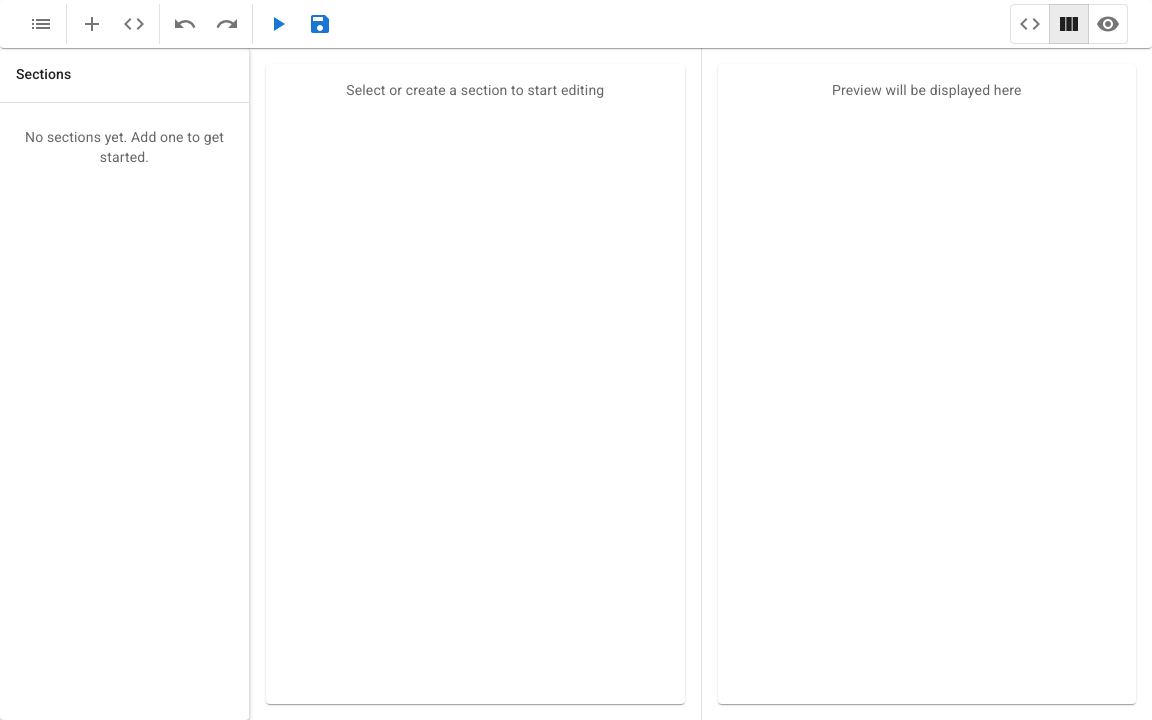
Test: DynamicTextEditor › should add a dynamic section when clicking add code button
Click the button named "Add Code Section" at x=134, y=24, box 117,7 -> 151,41
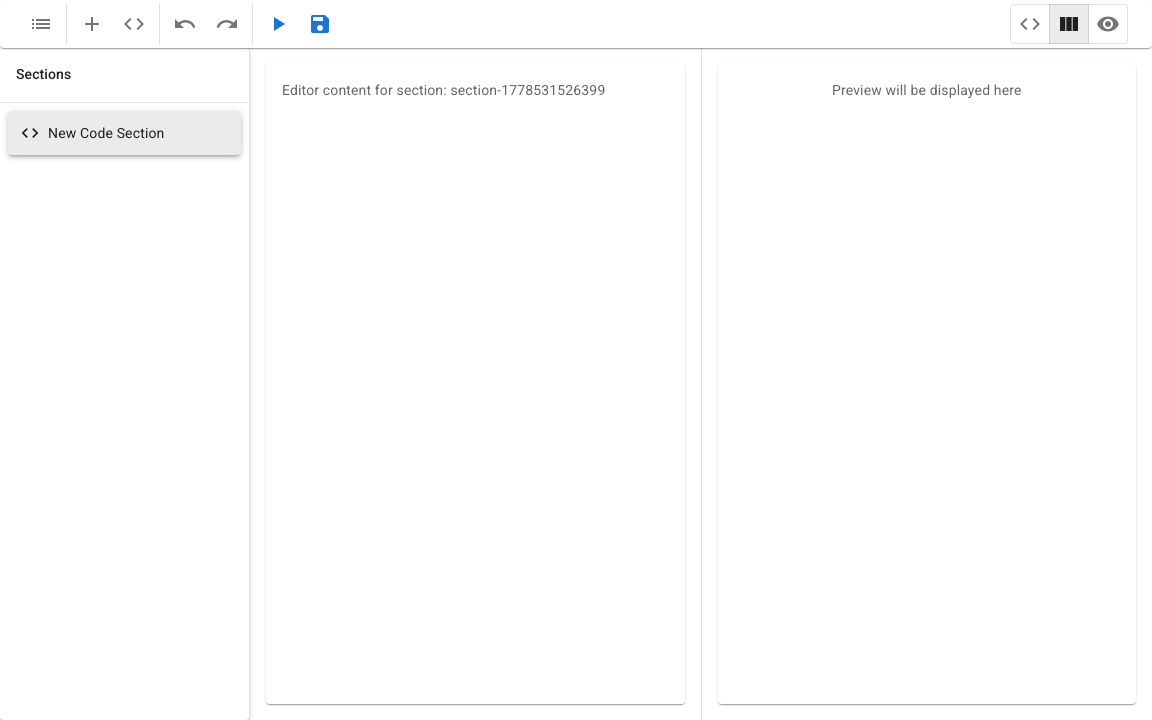
Now the text "New Code Section" is shown, box 48,123 -> 164,143
